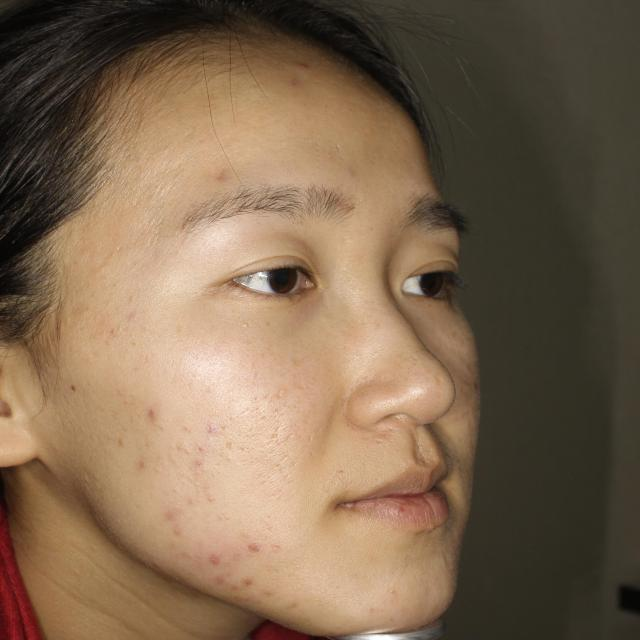pustule: (123, 394, 163, 427), (205, 168, 251, 191), (182, 449, 212, 476), (245, 536, 270, 568), (282, 54, 312, 80), (156, 502, 184, 522), (213, 570, 232, 593), (205, 547, 227, 564), (240, 574, 253, 597), (134, 462, 158, 474), (166, 523, 186, 532)
